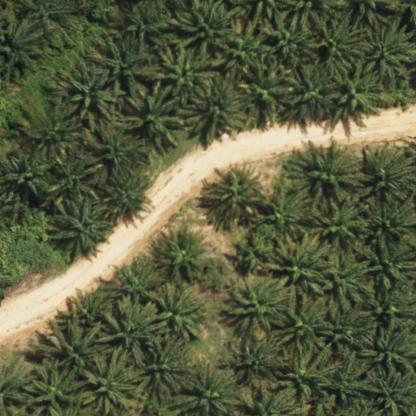Palm Oil: (95, 292, 172, 370), (282, 137, 364, 209), (119, 75, 187, 153), (198, 162, 270, 232), (90, 26, 161, 96), (45, 190, 115, 261), (319, 239, 384, 314), (221, 274, 296, 338), (16, 95, 84, 164), (264, 230, 335, 296), (185, 74, 248, 147), (52, 59, 122, 124), (276, 343, 344, 408), (75, 347, 139, 416), (277, 293, 335, 368), (310, 8, 371, 78), (80, 122, 151, 181), (36, 316, 107, 375), (152, 41, 224, 99), (36, 153, 108, 211), (318, 296, 383, 360), (359, 138, 416, 209), (328, 60, 390, 124), (310, 194, 374, 256), (238, 56, 294, 126), (152, 223, 212, 288), (214, 16, 274, 80), (261, 8, 324, 68), (148, 282, 208, 345), (223, 331, 285, 391), (139, 337, 192, 401), (284, 59, 335, 124), (100, 166, 157, 222), (262, 181, 317, 238), (323, 348, 375, 408), (113, 253, 158, 308), (230, 229, 274, 275)
